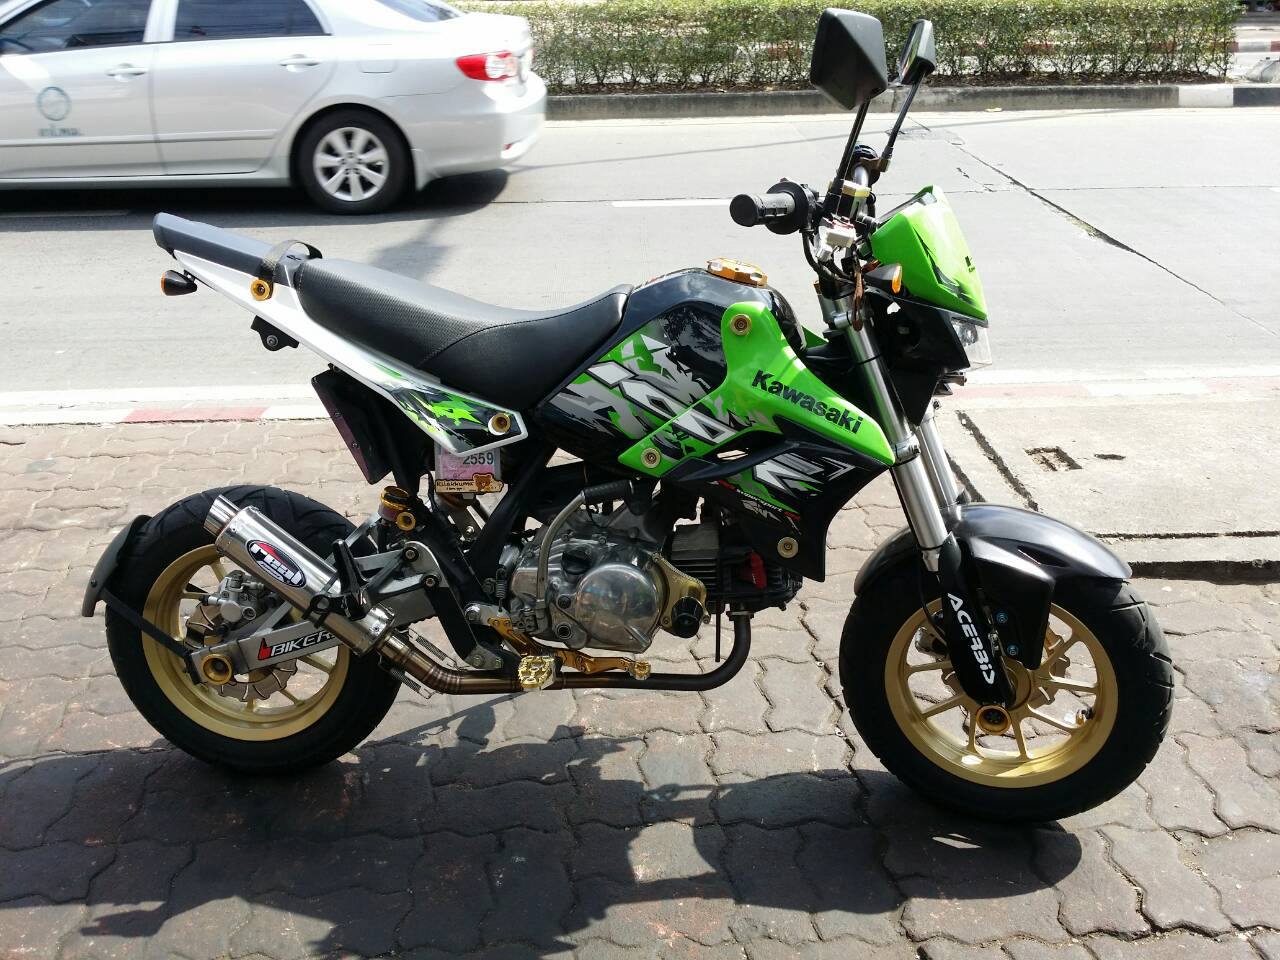motorcycle: (98, 186, 1168, 819)
